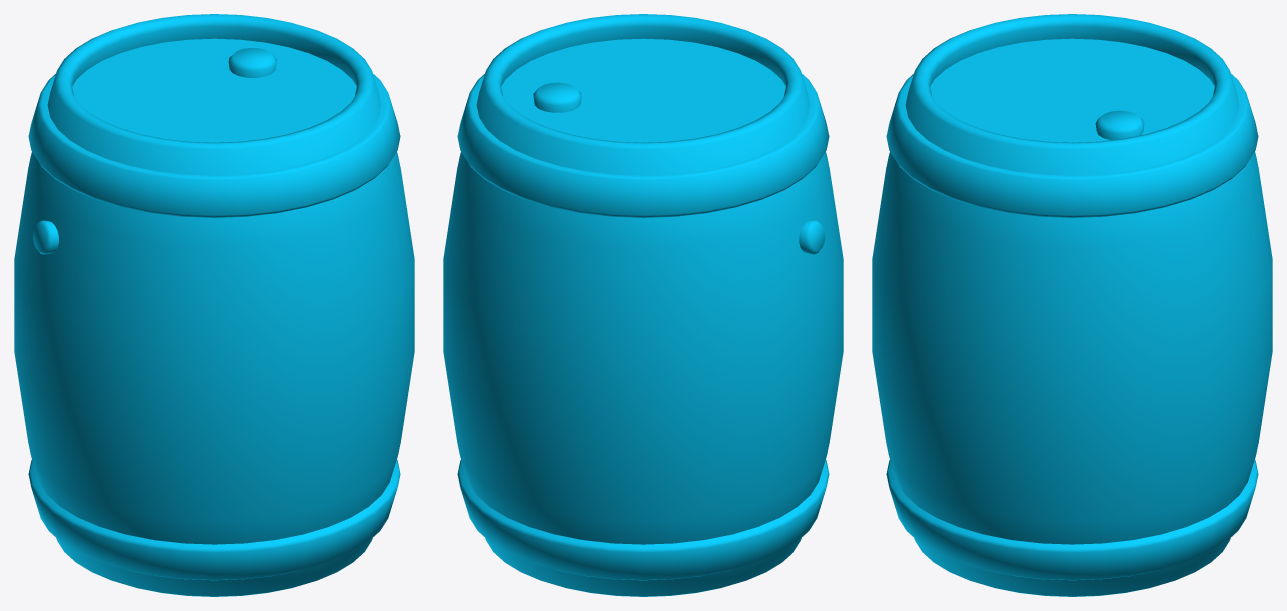
File: Barrel.FBX
The picture shows the model from 3 angles, left to right: view 1: azimuth 30°, elevation 25°; view 2: azimuth 150°, elevation 25°; view 3: azimuth 270°, elevation 25°; orthographic projection.
Parts seen in each view (by area): view 1: Barrel; view 2: Barrel; view 3: Barrel.
Boxes of the visible parts, <box> form: Barrel: <box>14,14,414,596</box>; Barrel: <box>443,14,843,596</box>; Barrel: <box>872,14,1272,596</box>.
Bounding box in the file's own units: 1.11 × 1.37 × 1.1.
